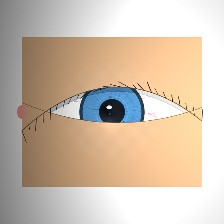pinguecula_lesion: (159, 99, 210, 140)
